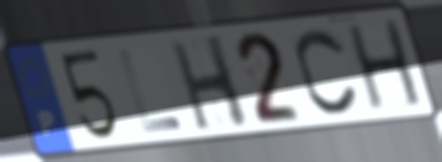2: (234, 29, 304, 127)
5: (55, 46, 120, 143)
C: (293, 25, 362, 117)
H: (167, 32, 253, 133), (343, 17, 427, 114)
L: (115, 47, 186, 135)
